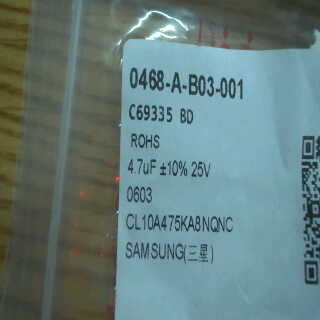4.7uF: (126, 156, 159, 177)
